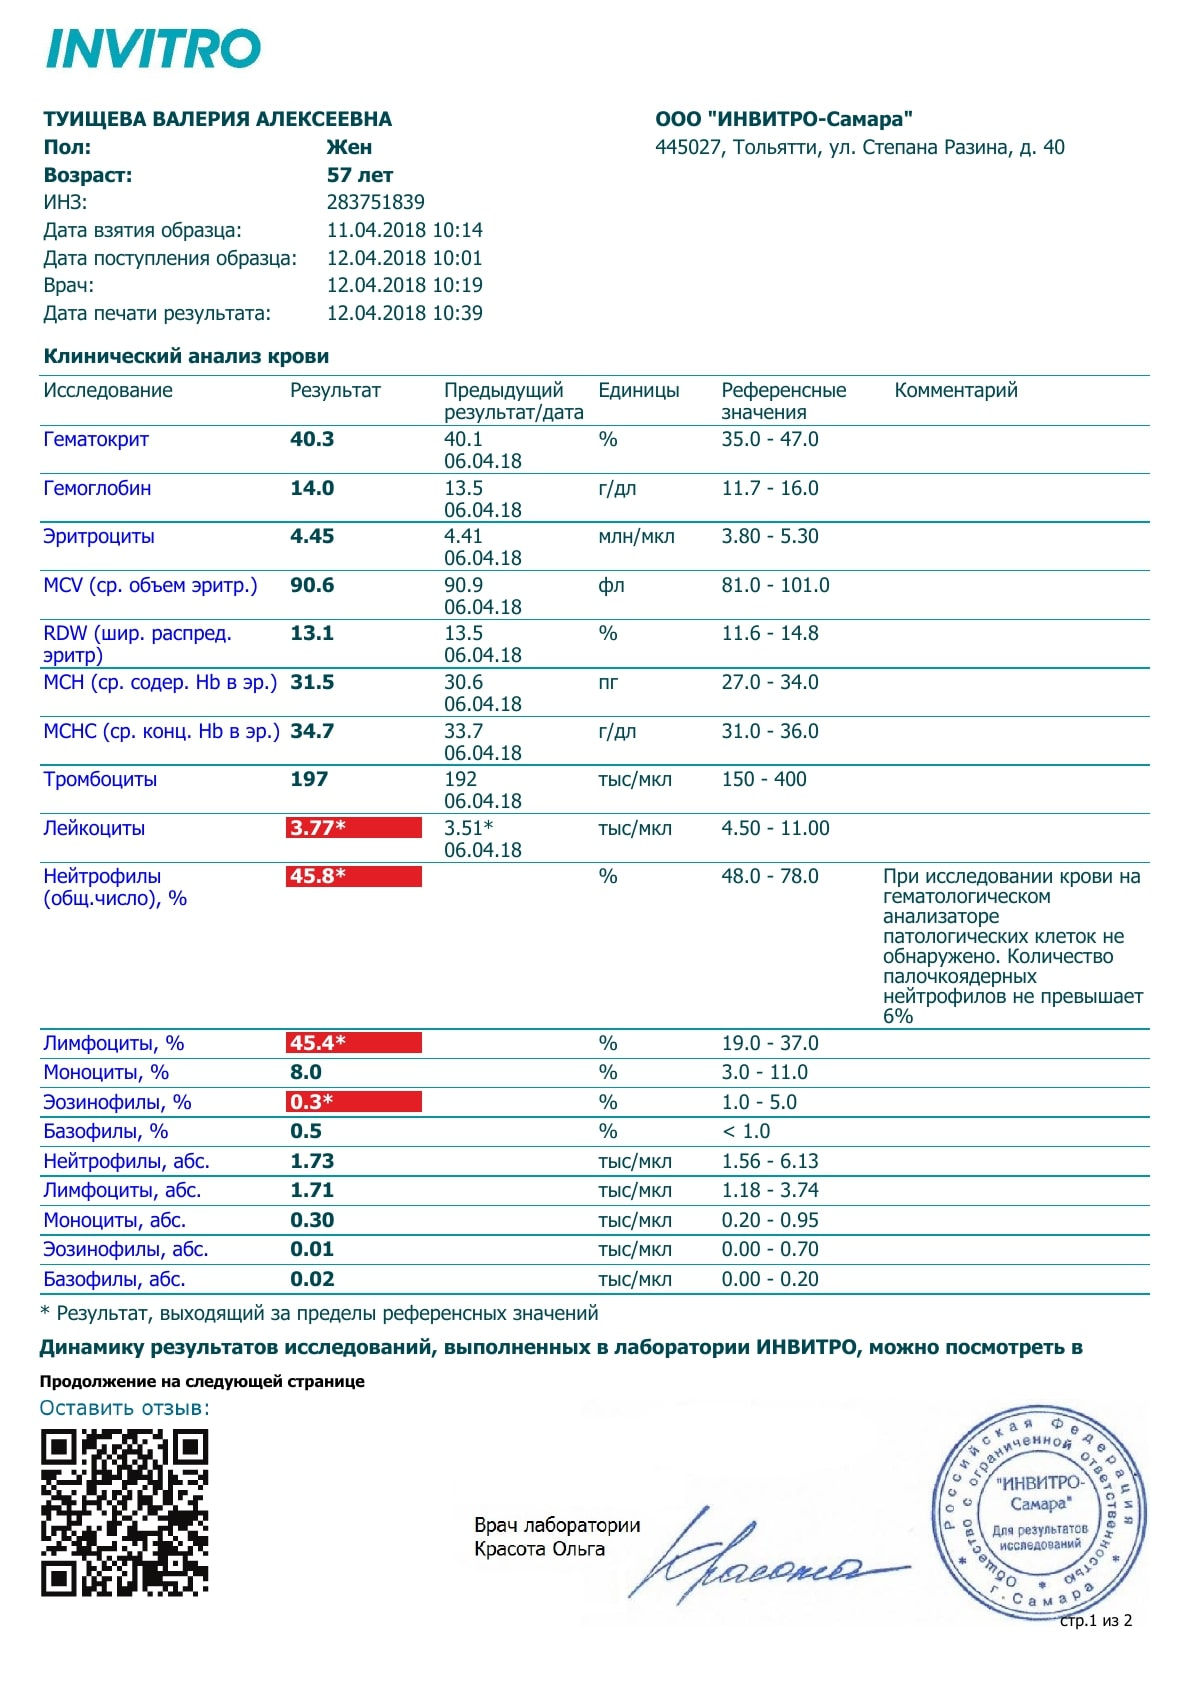column: (882, 375, 1145, 1294), (42, 375, 279, 1294), (443, 375, 583, 1294), (720, 375, 847, 1294), (288, 375, 382, 1294), (598, 375, 680, 1294)
